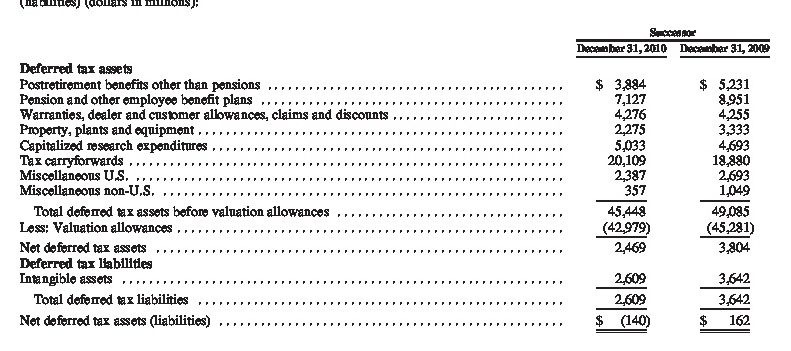table: (0, 0, 791, 351)
